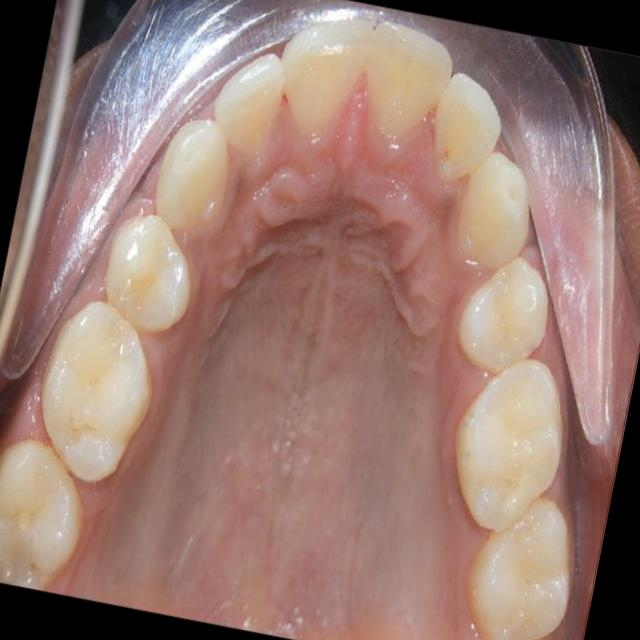Tooth: (42, 302, 152, 483), (454, 358, 563, 532), (466, 496, 570, 640), (455, 256, 548, 375), (282, 20, 373, 140), (105, 214, 191, 334), (367, 22, 452, 142), (457, 152, 528, 271), (155, 118, 228, 232), (434, 72, 502, 181), (214, 53, 282, 160)
